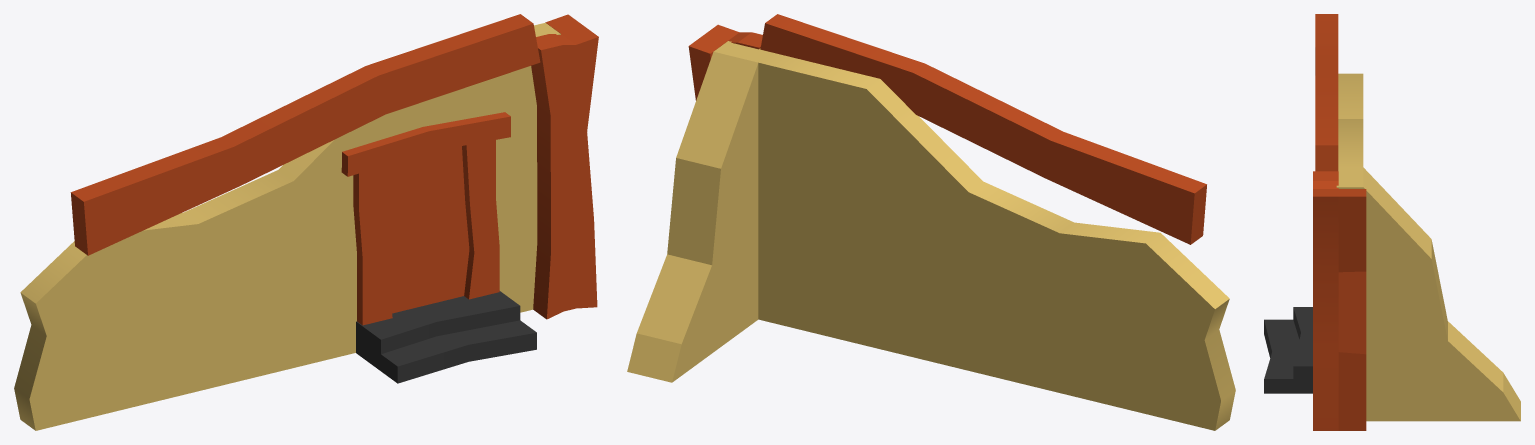
Rendered from MuroCasasimplified.fbx.
The picture shows the model from 3 angles, left to right: view 1: azimuth 30°, elevation 25°; view 2: azimuth 150°, elevation 25°; view 3: azimuth 270°, elevation 25°; orthographic projection. The views are drawn at different scales.
Parts seen in each view (by area): view 1: Object044, Object047, Object045 (×2), Object046; view 2: Object044, Object047; view 3: Object044, Object047, Object045.
Part boxes in pixels (left/top/right/bottom): Object044: left=14, top=22, right=560, bottom=430; Object047: left=70, top=14, right=598, bottom=319; Object045 (×2): left=356, top=146, right=536, bottom=383; Object046: left=341, top=112, right=510, bottom=325; Object044: left=627, top=41, right=1235, bottom=430; Object047: left=688, top=14, right=1206, bottom=244; Object044: left=1336, top=73, right=1520, bottom=421; Object047: left=1313, top=14, right=1366, bottom=430; Object045: left=1264, top=307, right=1312, bottom=393.
Bounding box in the file's own units: 326 × 167 × 150.
